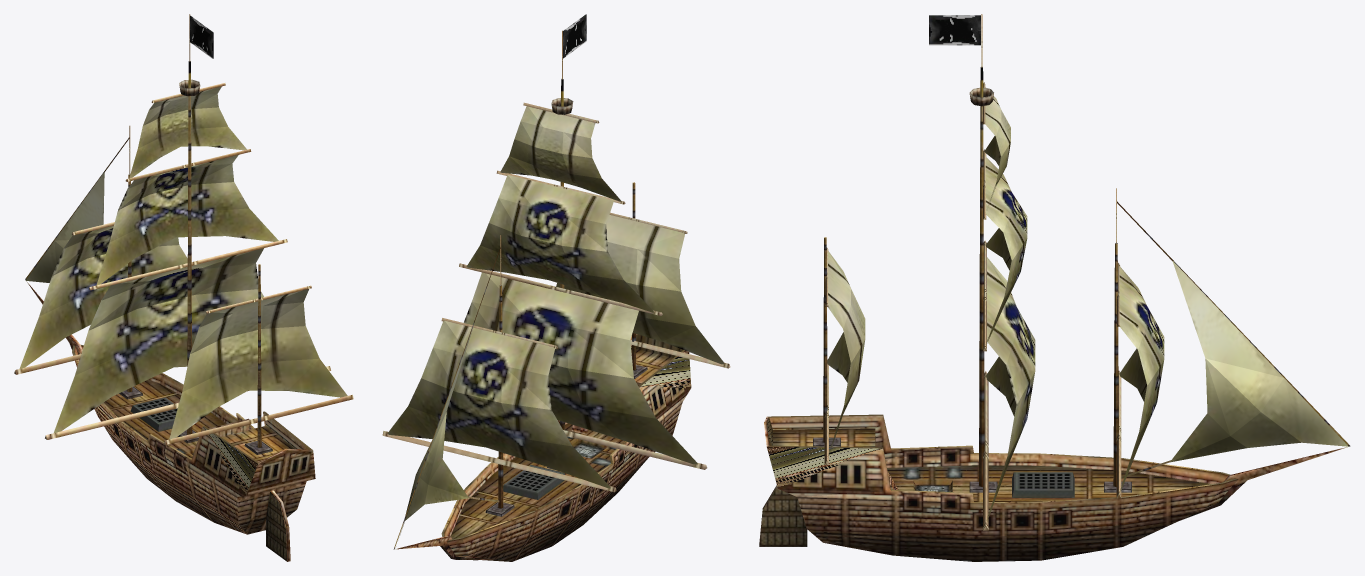
The model's file is Sailing_Ship_005.glb.
The picture shows the model from 3 angles, left to right: view 1: azimuth 30°, elevation 25°; view 2: azimuth 150°, elevation 25°; view 3: azimuth 270°, elevation 25°; orthographic projection. The views are drawn at different scales.
Parts seen in each view (by area): view 1: UIP85DMOUFWEV8BBH2UYUTZWE; view 2: UIP85DMOUFWEV8BBH2UYUTZWE; view 3: UIP85DMOUFWEV8BBH2UYUTZWE.
Part boxes in pixels (x1,y1,x2,y2): UIP85DMOUFWEV8BBH2UYUTZWE: (14, 14, 353, 561); UIP85DMOUFWEV8BBH2UYUTZWE: (382, 14, 730, 561); UIP85DMOUFWEV8BBH2UYUTZWE: (759, 14, 1350, 561).
Size of the model in its own units: 1.55 by 2.5 by 2.49.
Materials: 1 (1 with a texture image).
